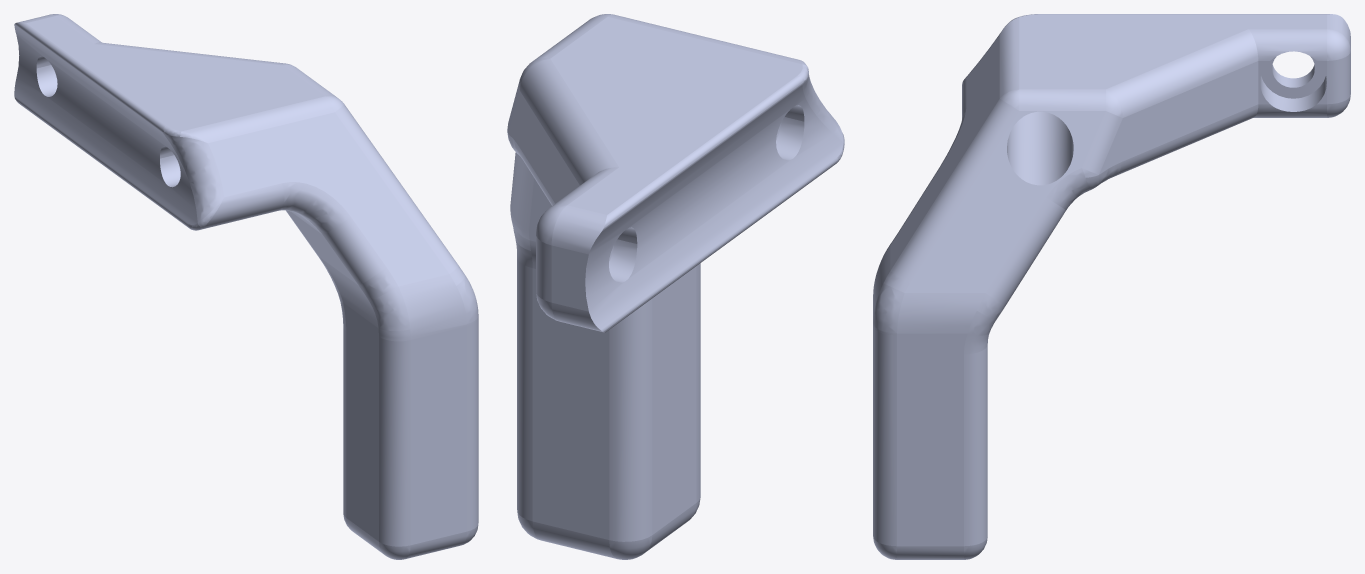
File: angled-tool.glb
3 views of the same model, side by side, from view 1: azimuth 30°, elevation 25°; view 2: azimuth 150°, elevation 25°; view 3: azimuth 270°, elevation 25° (orthographic). The views are drawn at different scales.
Visible parts, largest first — view 1: mesh_0; view 2: mesh_0; view 3: mesh_0.
Part boxes in pixels (x1,y1,x2,y2): mesh_0: (14, 14, 478, 559); mesh_0: (507, 14, 844, 559); mesh_0: (873, 14, 1350, 559).
Bounding box in the file's own units: 30.31 × 50 × 50.
